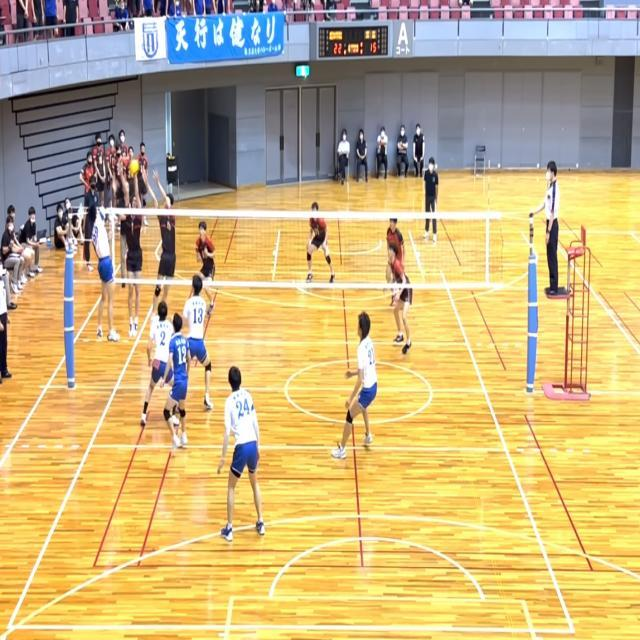spike: (84, 173, 123, 354)
